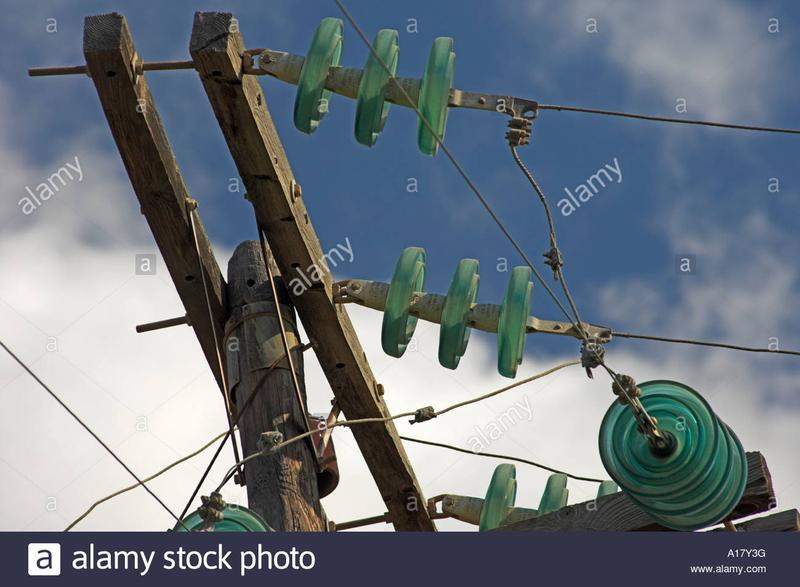isolator: (291, 16, 457, 158), (597, 379, 749, 531), (380, 245, 535, 380), (478, 463, 619, 533), (172, 503, 272, 531)
